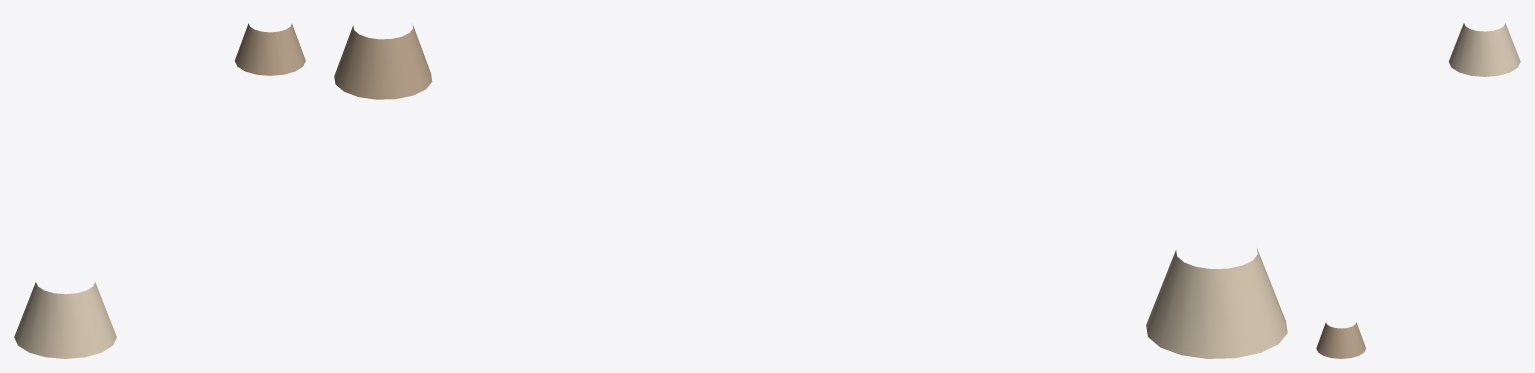
The model's file is sunset_room_lamp_shades.gltf.
3 views of the same model, side by side, from view 1: azimuth 90°, elevation 25°; view 2: azimuth 150°, elevation 25°; view 3: azimuth 270°, elevation 25° (orthographic). The views are drawn at different scales.
Parts seen in each view (by area): view 1: SunsetRoomLampShades; view 2: SunsetRoomLampShades; view 3: SunsetRoomLampShades.
Boxes of the visible parts, bbox=[...] form: SunsetRoomLampShades: bbox=[14, 23, 305, 358]; SunsetRoomLampShades: bbox=[334, 24, 1287, 358]; SunsetRoomLampShades: bbox=[1316, 23, 1520, 358].
Size of the model in its own units: 9.08 by 1.36 by 2.95.
